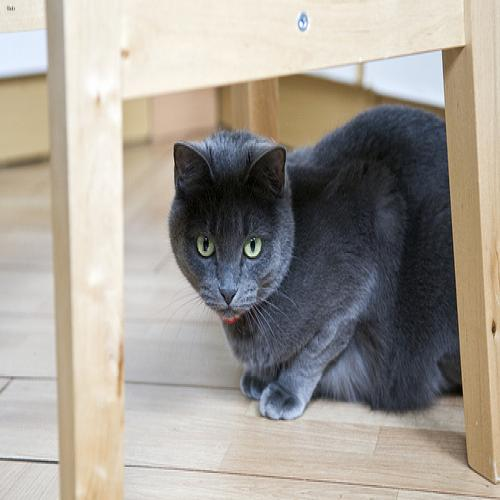rblue: (164, 111, 301, 336)
